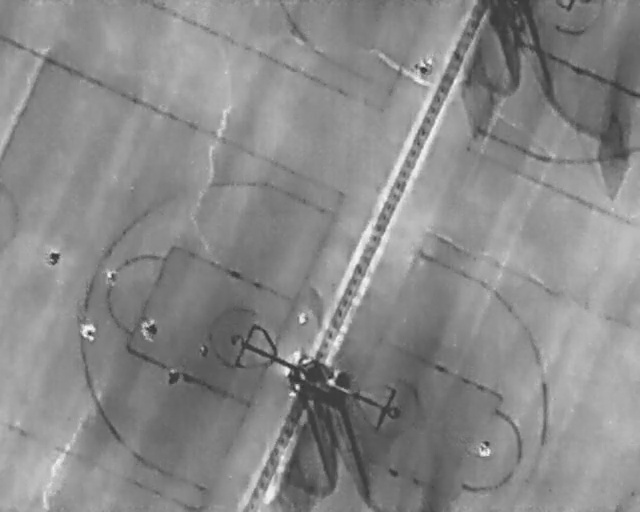Person: (80, 320, 98, 342), (142, 316, 156, 342), (48, 250, 63, 268), (478, 439, 492, 458), (106, 266, 117, 287), (418, 57, 429, 75), (424, 55, 433, 75), (297, 311, 308, 326)
